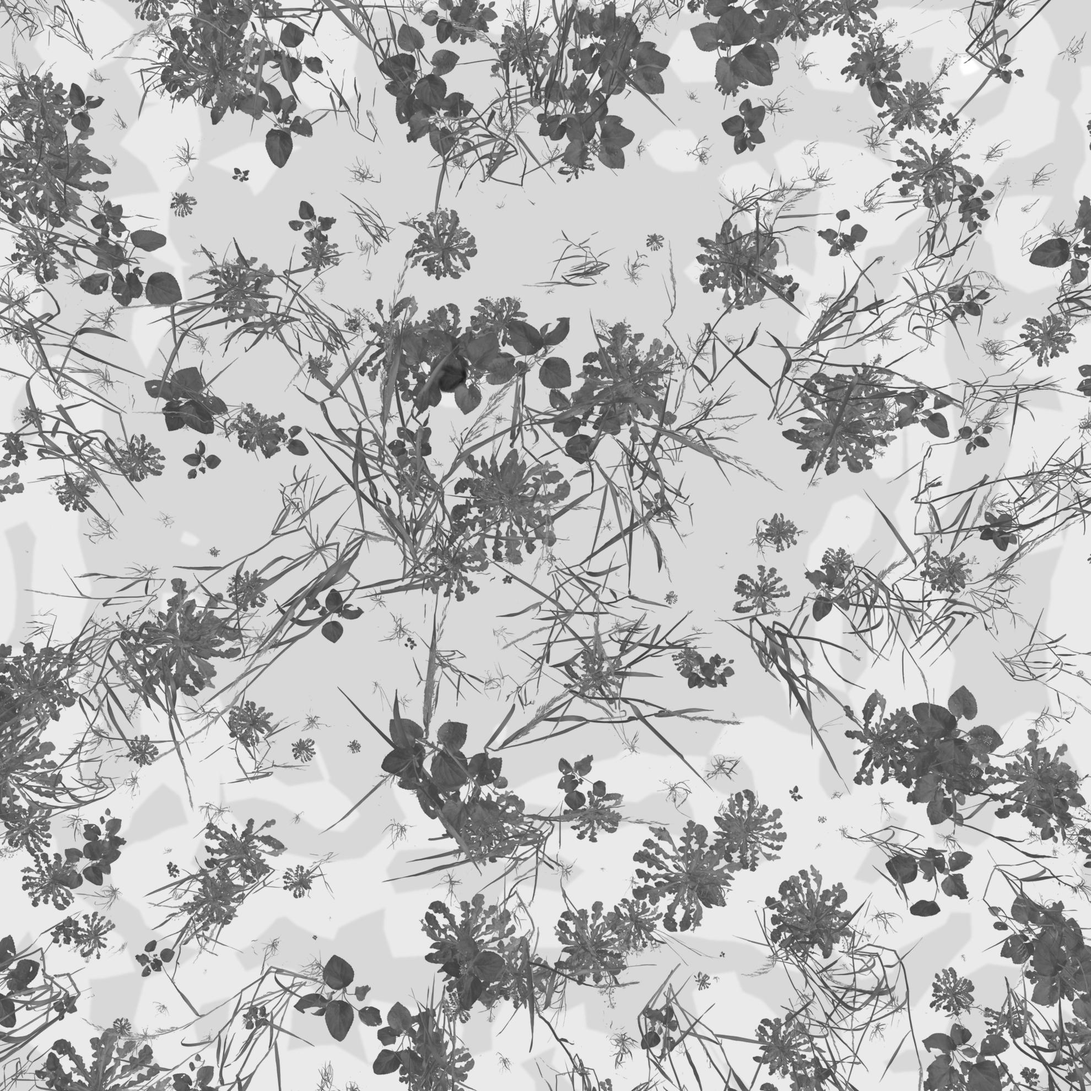landmine: (432, 342, 470, 394)
